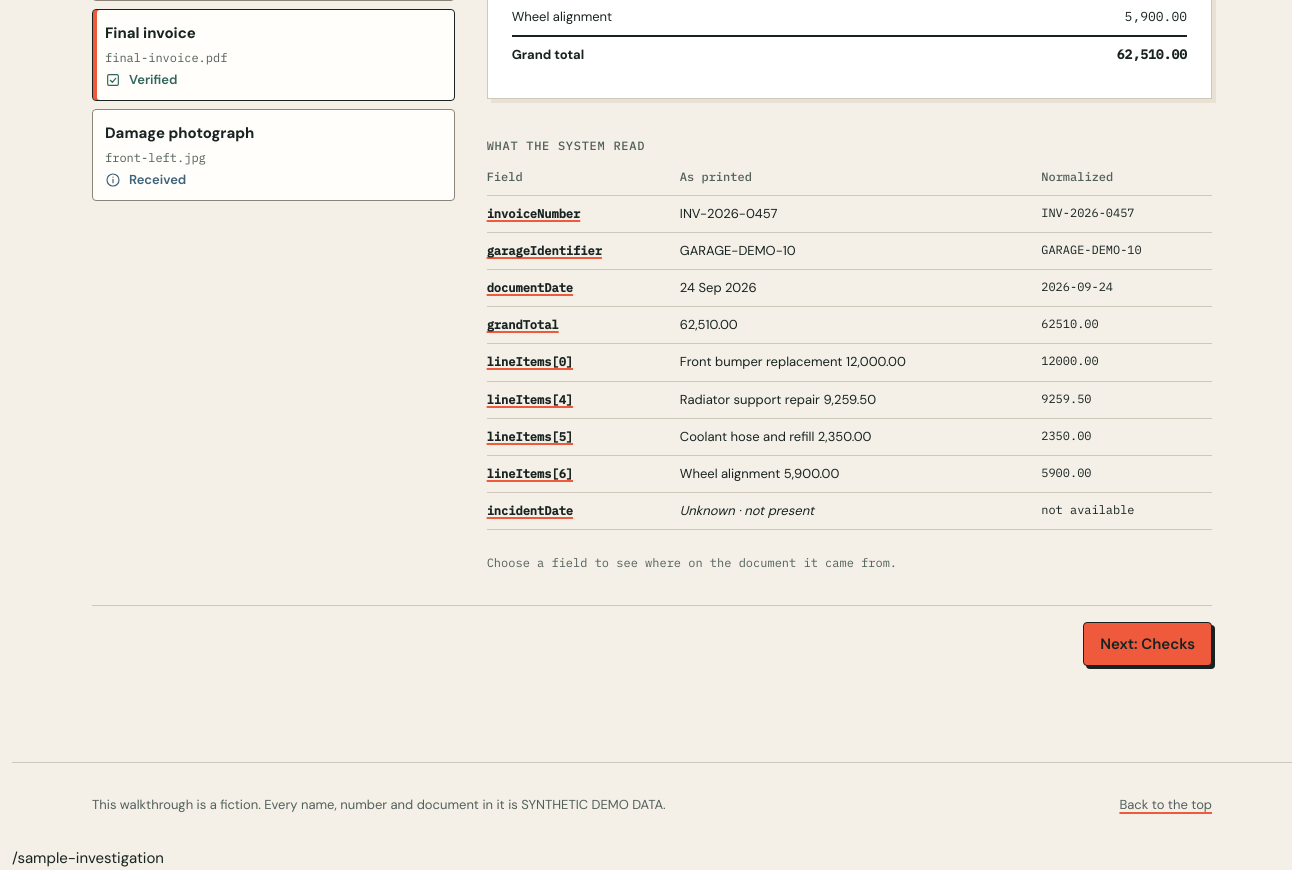
Test: Documents step › shows what could not be read as unknown and says nothing was guessed
(page scrolled)
Click the button "incidentDate": x=530, y=511 top-left (487, 502), bottom-right (573, 521)
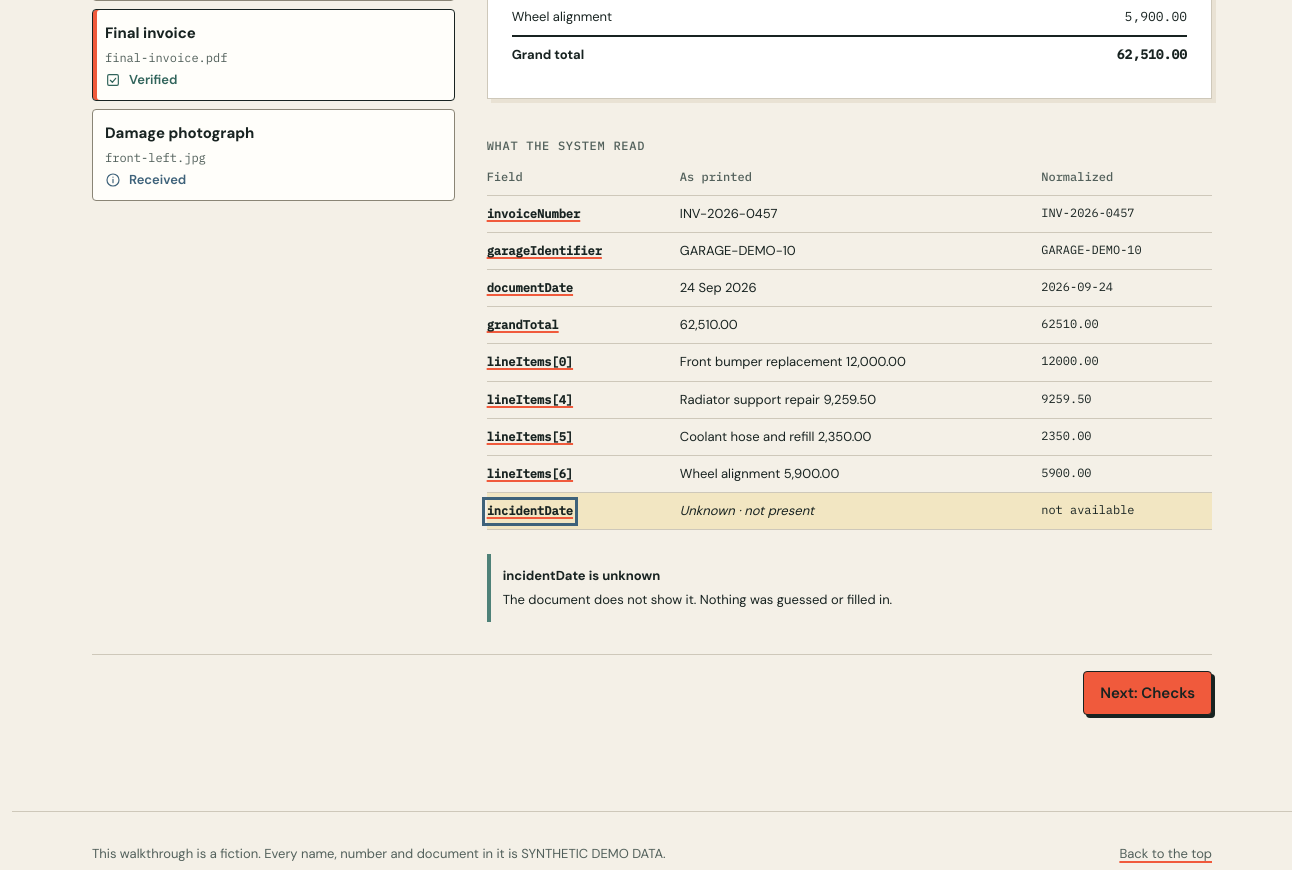
Check: the text "incidentDate is unknown" is shown, box top-left (503, 567), bottom-right (660, 584)
Check: the text "Nothing was guessed or filled in" is shown, box top-left (503, 591), bottom-right (892, 608)
